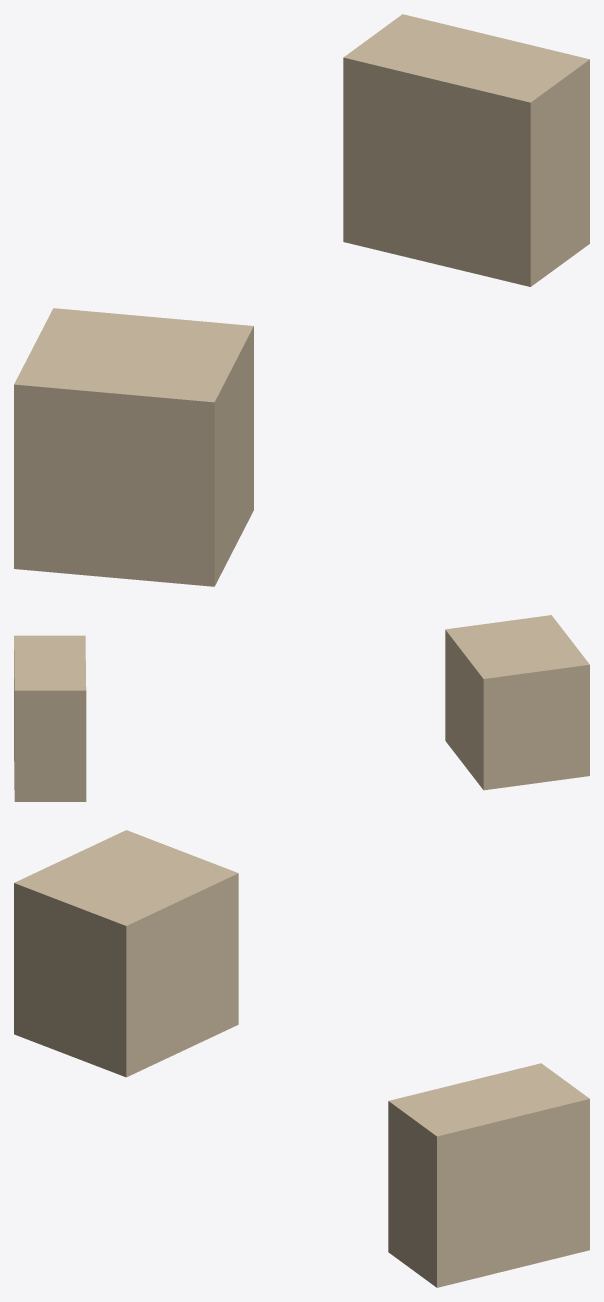
Rendered from -22_-14-estimated-coarse.glb.
3 views of the same model, one above another, from view 1: azimuth 30°, elevation 25°; view 2: azimuth 150°, elevation 25°; view 3: azimuth 270°, elevation 25° (orthographic). The views are drawn at different scales.
Size of the model in its own units: 52.1 by 12 by 41.37.
